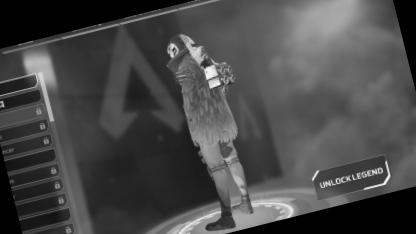Target: (155, 20, 265, 198)
